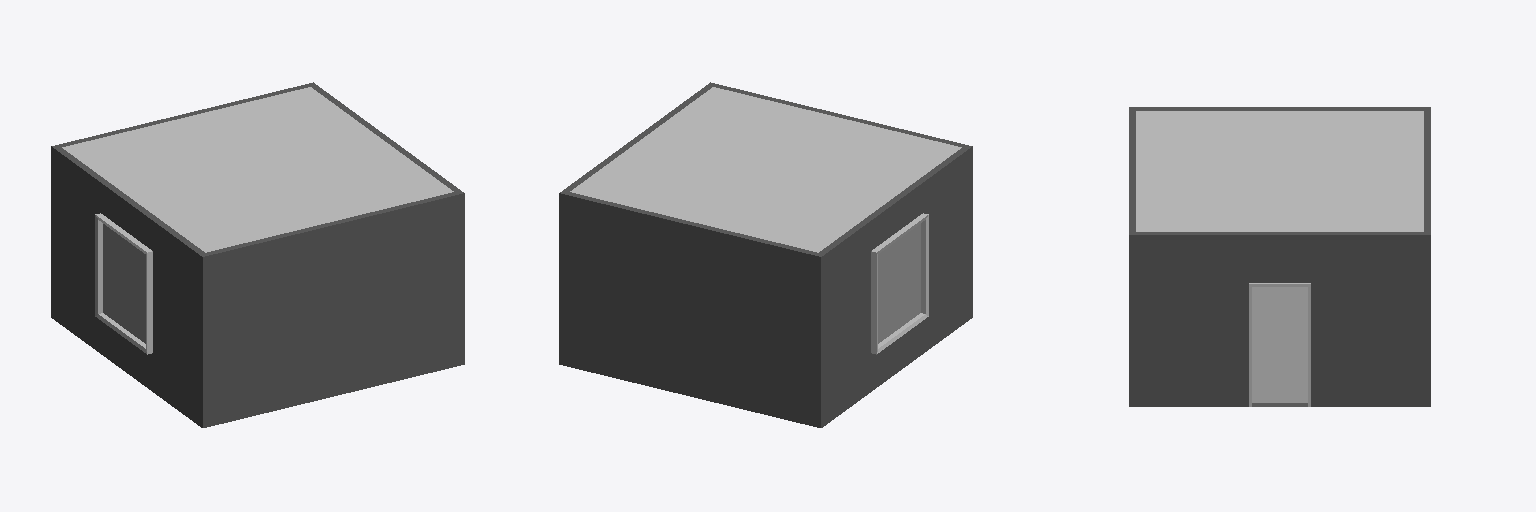
The model's file is wall.obj.
3 views of the same model, side by side, from view 1: azimuth 30°, elevation 25°; view 2: azimuth 150°, elevation 25°; view 3: azimuth 270°, elevation 25° (orthographic).
Visible parts, largest first — view 1: Vert; view 2: Vert; view 3: Vert.
Boxes of the visible parts, x1,y1,x2,y2 form: Vert: [51, 82, 464, 427]; Vert: [559, 82, 972, 427]; Vert: [1129, 107, 1430, 406].
Size of the model in its own units: 16.45 by 10 by 16.